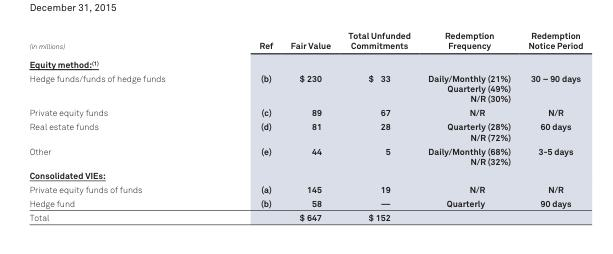table: (28, 29, 582, 222)
table column: (28, 29, 211, 222), (418, 29, 518, 222), (338, 29, 418, 222), (211, 29, 280, 222), (518, 29, 582, 222), (280, 29, 338, 222)
table column header: (28, 29, 582, 54)
table projected row header: (28, 54, 582, 70), (28, 167, 582, 181)
table row: (28, 70, 582, 105), (28, 29, 582, 54), (28, 119, 582, 143), (28, 143, 582, 167), (28, 54, 582, 70), (28, 105, 582, 119), (28, 167, 582, 181), (28, 181, 582, 195), (28, 195, 582, 209), (28, 209, 582, 222)
